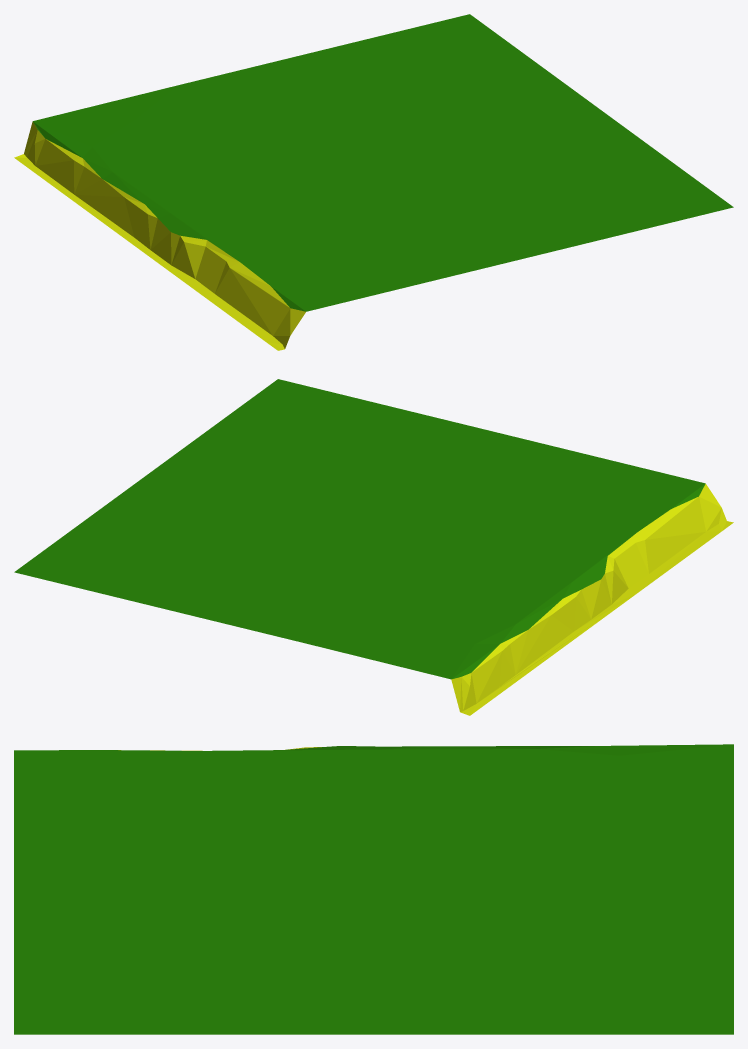
3 views of the same model, one above another, from view 1: azimuth 30°, elevation 25°; view 2: azimuth 150°, elevation 25°; view 3: azimuth 270°, elevation 25° (orthographic). The views are drawn at different scales.
Parts seen in each view (by area): view 1: TerrainVeryHigh.013; view 2: TerrainVeryHigh.013; view 3: TerrainVeryHigh.013.
Part boxes in pixels (<box>): TerrainVeryHigh.013: <box>14,14,733,350</box>; TerrainVeryHigh.013: <box>14,379,733,715</box>; TerrainVeryHigh.013: <box>14,744,733,1034</box>.
Size of the model in its own units: 1247 by 1251 by 84.91.
